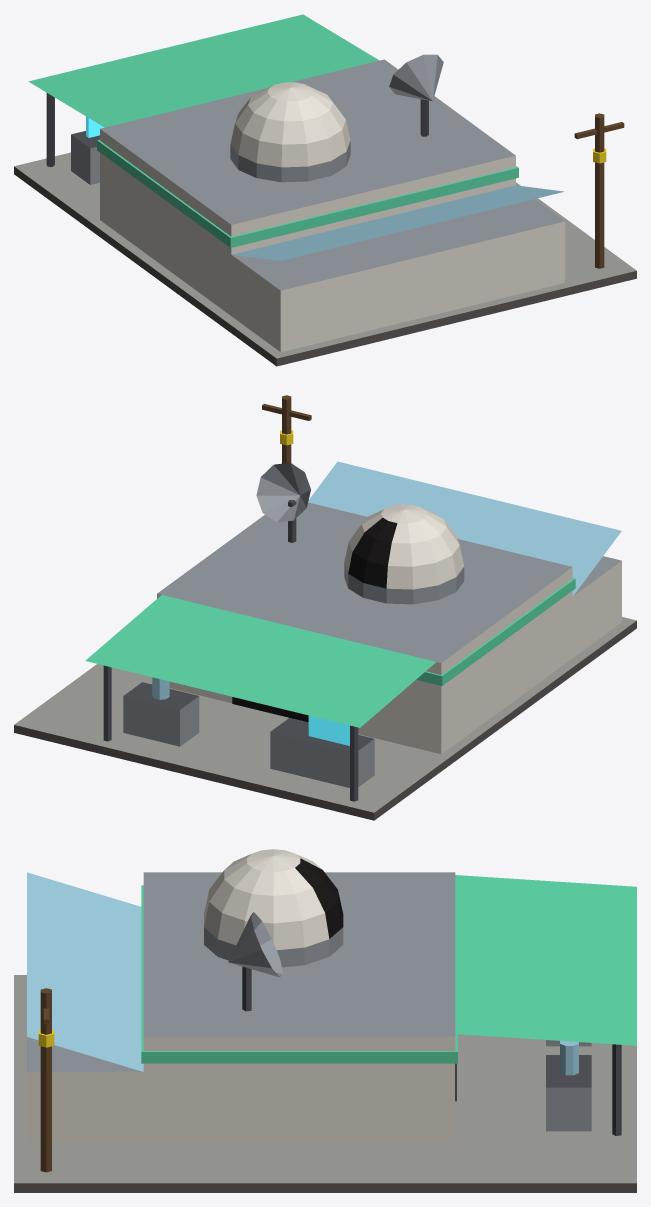
Rendered from research_lab.glb.
3 views of the same model, one above another, from view 1: azimuth 30°, elevation 25°; view 2: azimuth 150°, elevation 25°; view 3: azimuth 270°, elevation 25° (orthographic). The views are drawn at different scales.
Visible parts, largest first — view 1: research_lab; view 2: research_lab; view 3: research_lab.
Part boxes in pixels (left/top/right/bottom): research_lab: left=14, top=14, right=636, bottom=366; research_lab: left=14, top=395, right=636, bottom=820; research_lab: left=14, top=849, right=636, bottom=1192.
Bounding box in the file's own units: 3.8 × 1.8 × 4.8.
